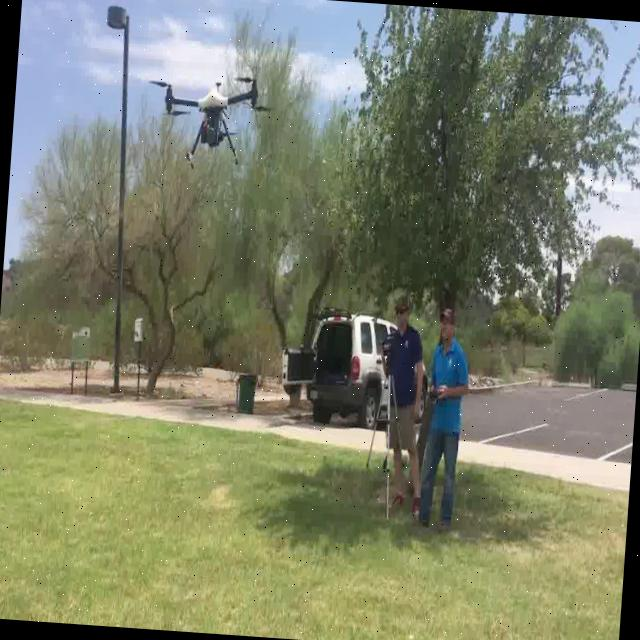drone: (112, 0, 317, 219)
